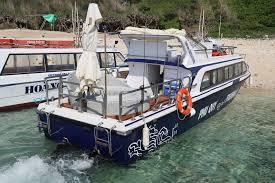Ship: (39, 28, 251, 164), (1, 49, 106, 111), (108, 49, 128, 69)
